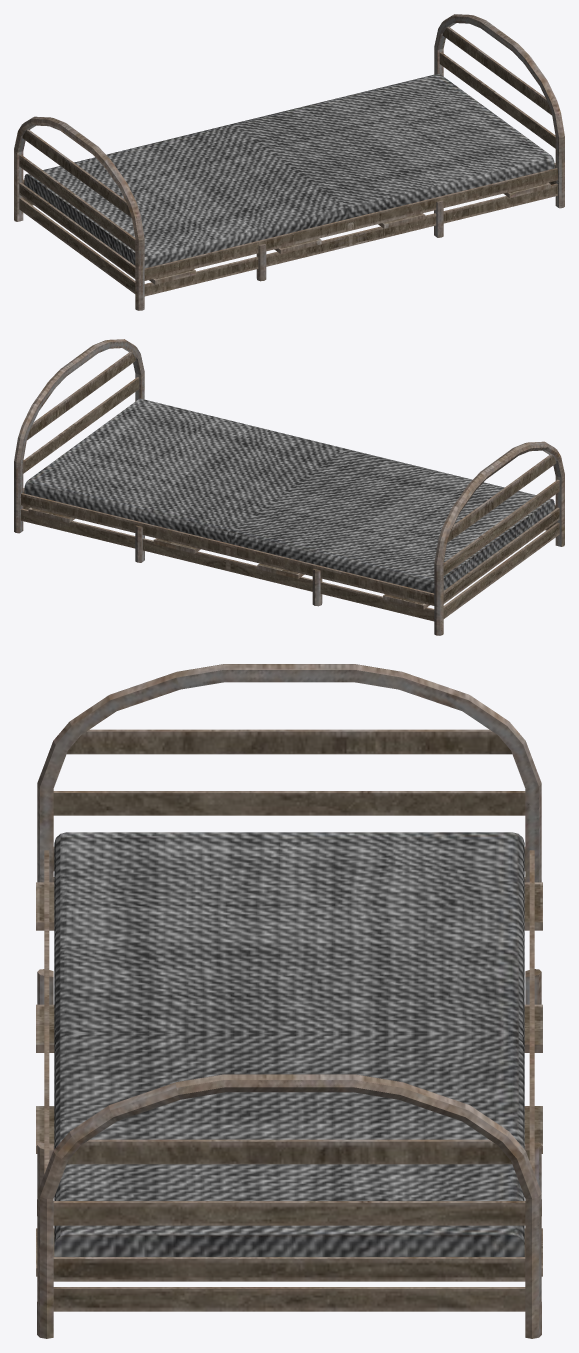
The model's file is PRPT_T_Kasur.fbx.
3 views of the same model, one above another, from view 1: azimuth 30°, elevation 25°; view 2: azimuth 150°, elevation 25°; view 3: azimuth 270°, elevation 25° (orthographic). The views are drawn at different scales.
Parts seen in each view (by area): view 1: PRPT_T_Kasur; view 2: PRPT_T_Kasur; view 3: PRPT_T_Kasur.
Part boxes in pixels (x1,y1,x2,y2): PRPT_T_Kasur: (14,14,564,310); PRPT_T_Kasur: (14,339,564,635); PRPT_T_Kasur: (36,664,542,1338).
Size of the model in its own units: 204 by 59.18 by 105.
